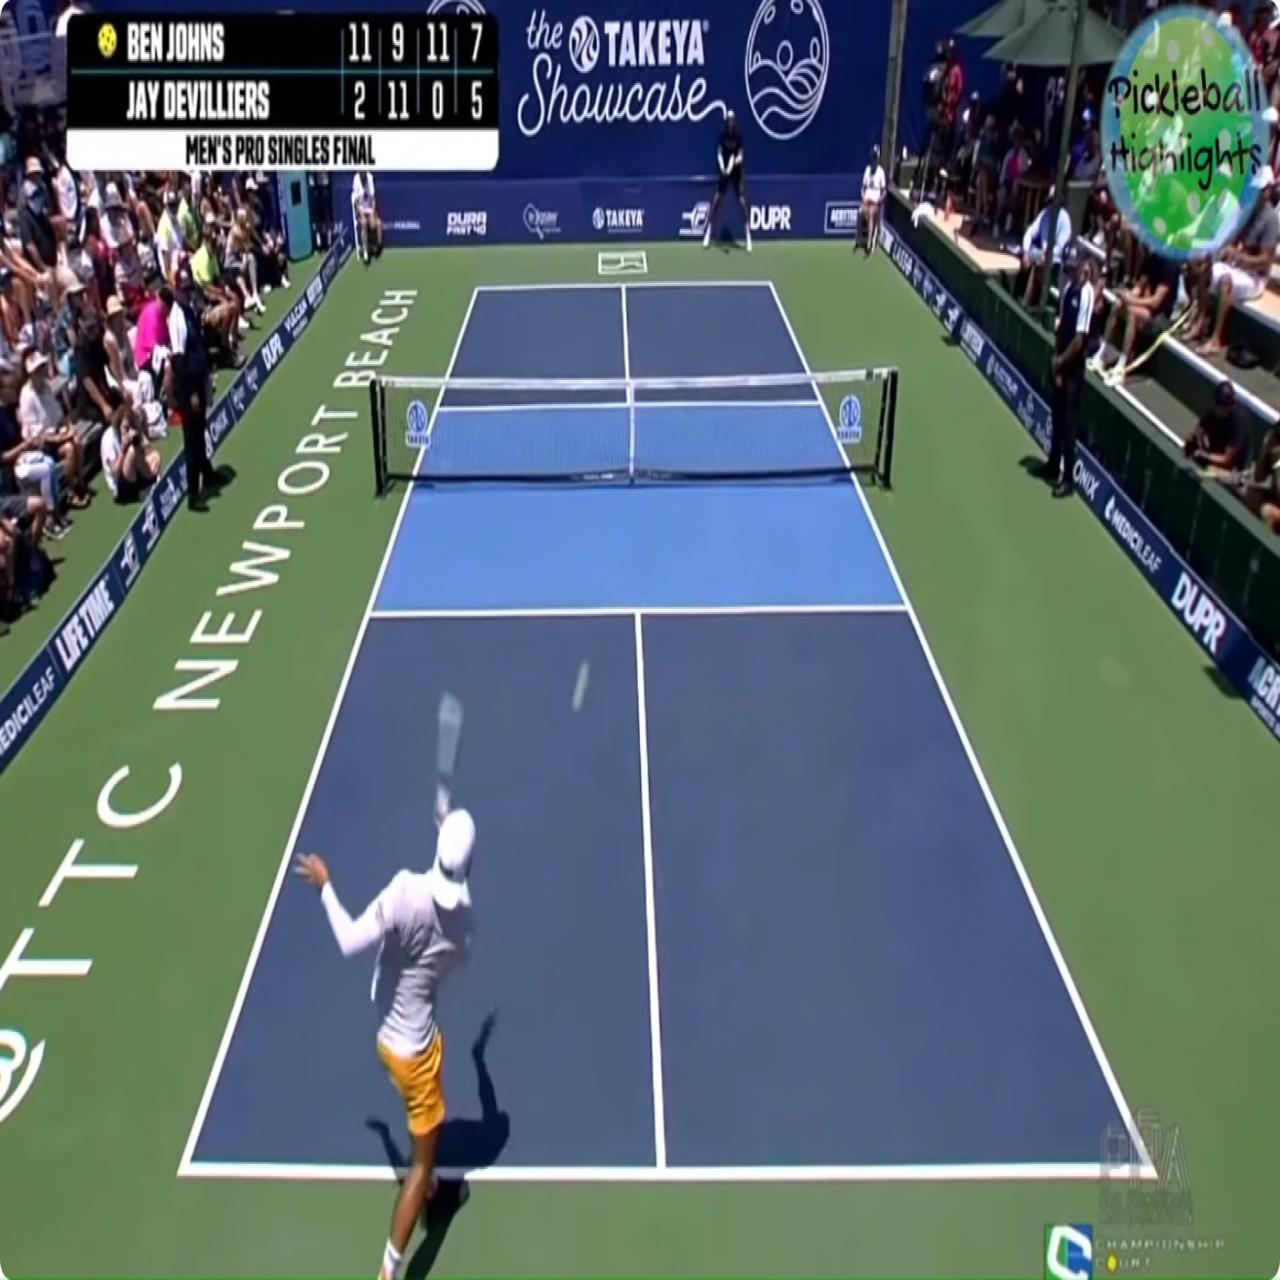pickleball: (572, 659, 590, 712)
